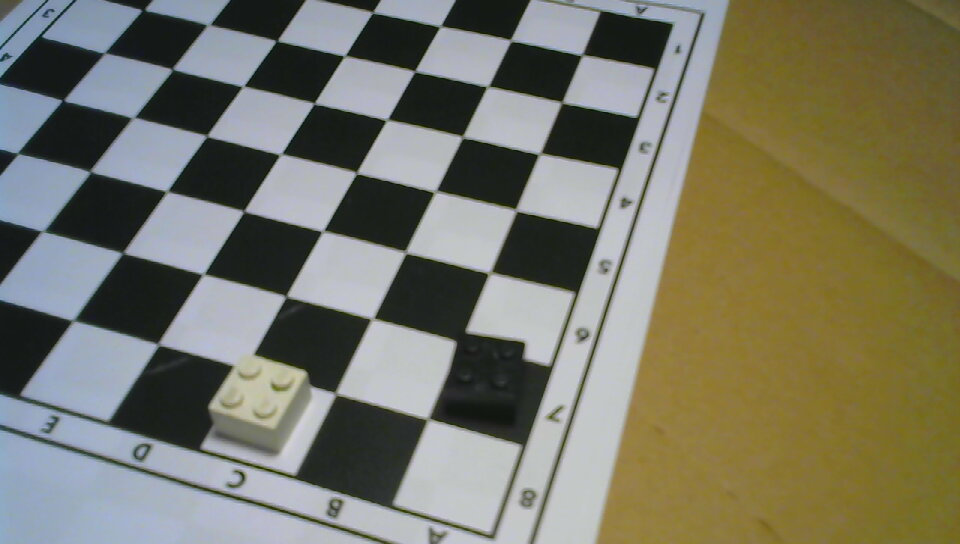bp: (444, 333, 524, 423)
wp: (207, 354, 311, 454)
